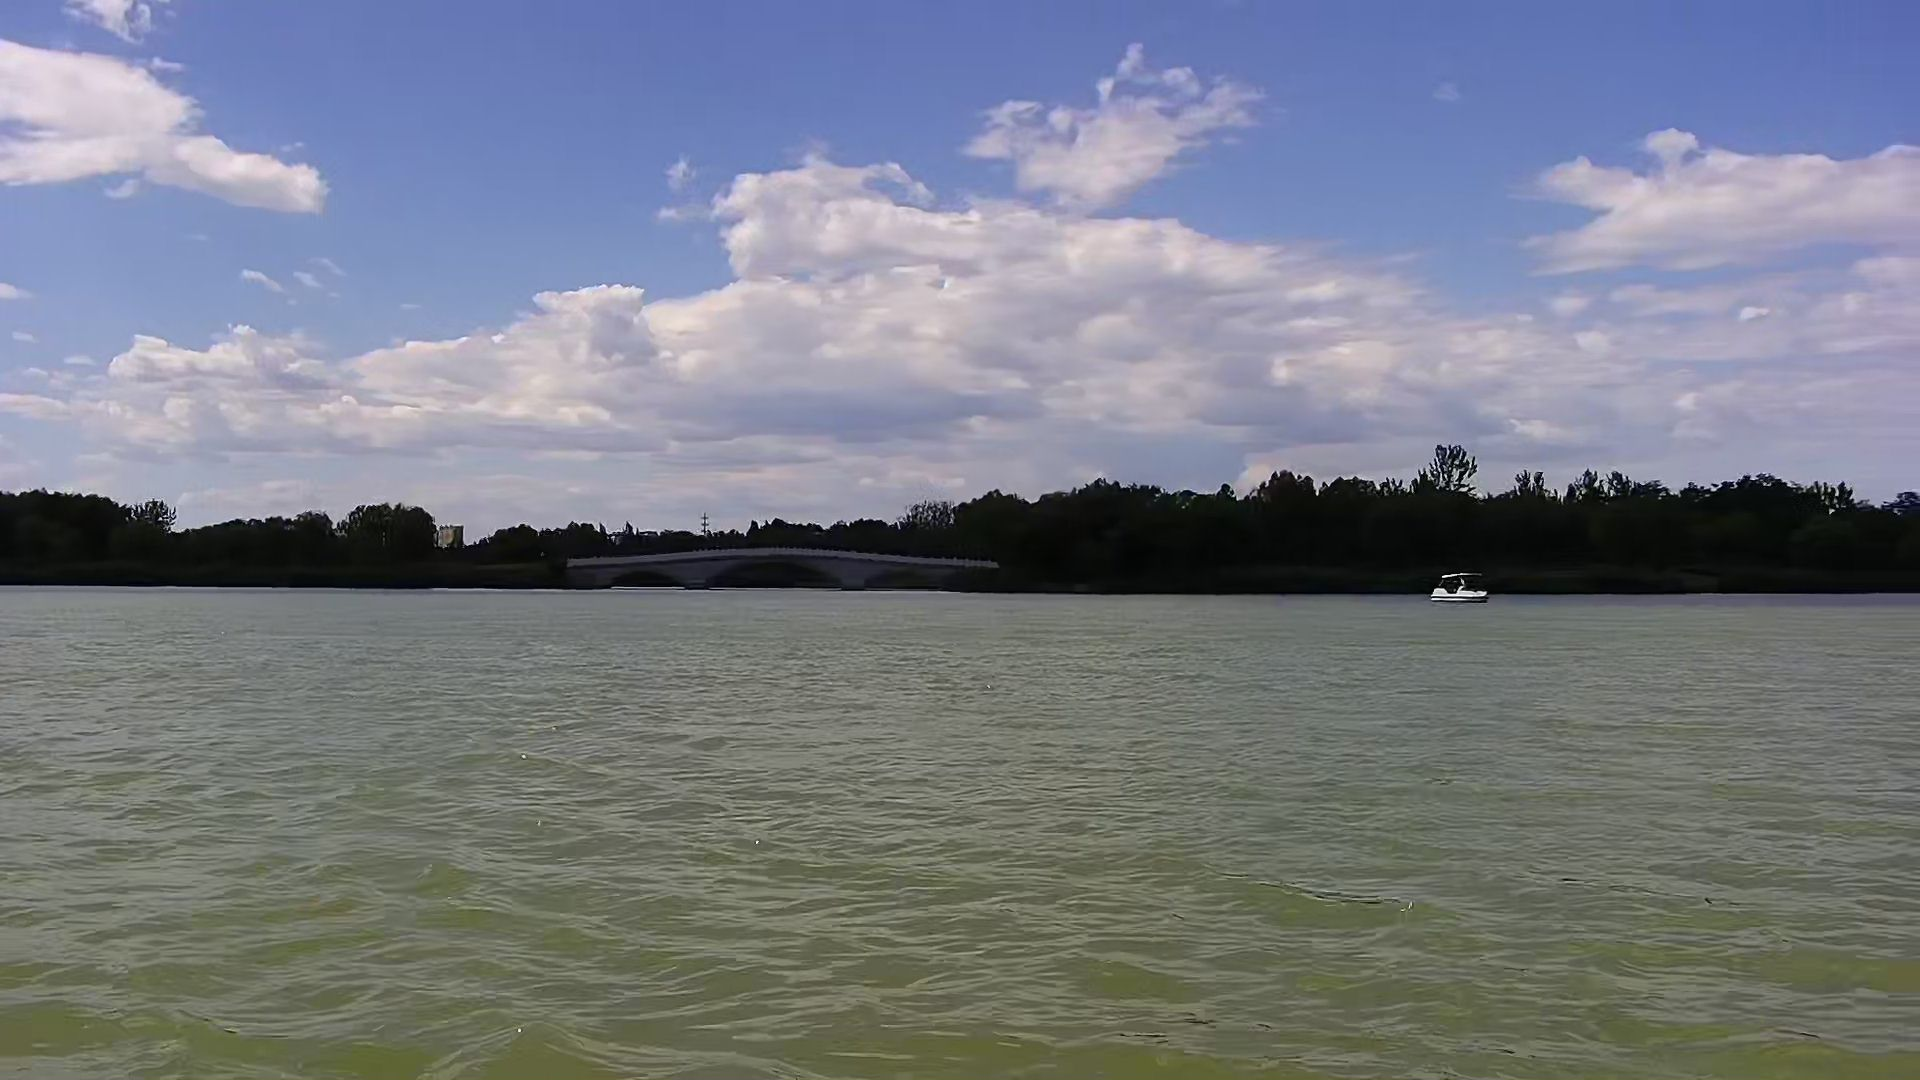boat: (1422, 566, 1491, 605)
bridge: (560, 542, 1000, 597)
